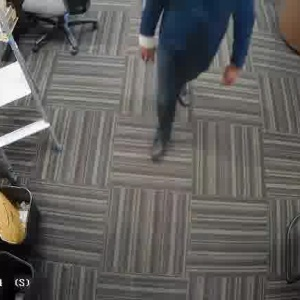person: (139, 0, 256, 168)
